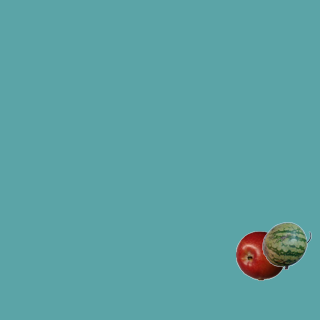Apple Braeburn: (235, 230, 285, 280)
Watermelon: (261, 220, 311, 270)
